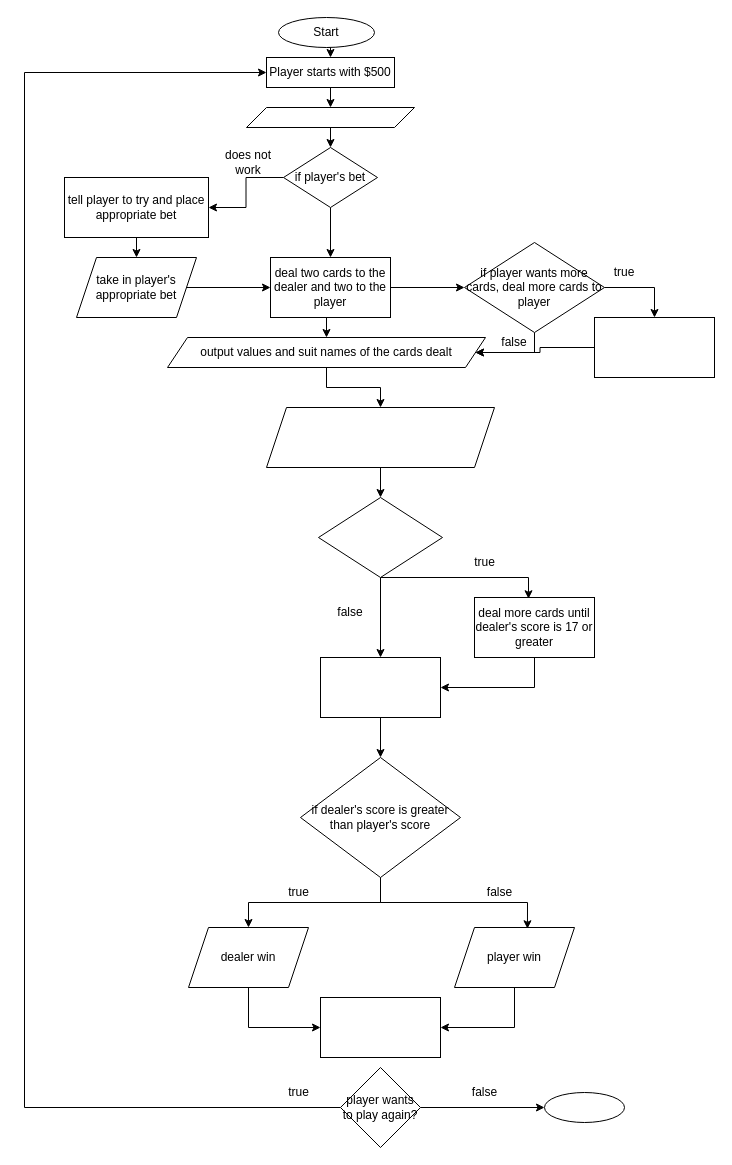
This 732x1165 diagram has some shape labels left out. Here are the shapes that lost their labels. From the top down, the centre of each, then its label:
At [330,117]: "take in player's bet".
At [654,347]: "deal more cards to player".
At [380,437]: "output the players total card value".
At [380,537]: "if dealer's card value is less than 17".
At [380,687]: "compare dealer's to player's card value".
At [380,1027]: "appropriately adjust player's funds".
At [584,1107]: "end".
